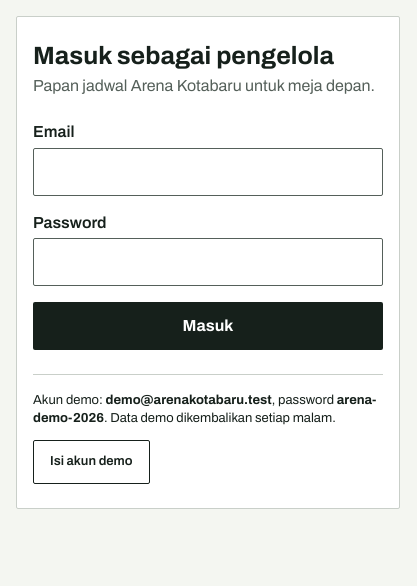
Test: LoginForm › says the email or password is wrong, not that a session ended
Type "owner@example.test" into the field labelled "Email" at [208, 172], box top-left (33, 148), bottom-right (383, 196)
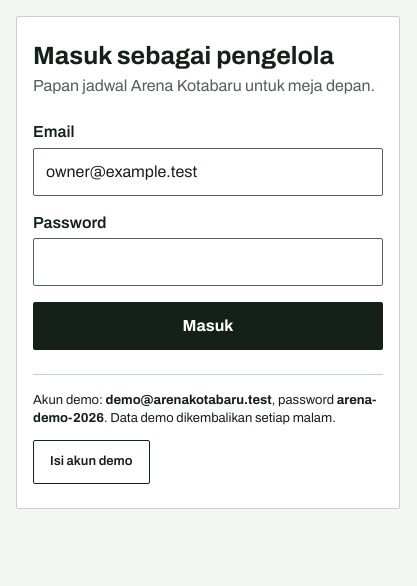
Type "wrong" into the password field labelled "Password" at [208, 262], box top-left (33, 238), bottom-right (383, 286)
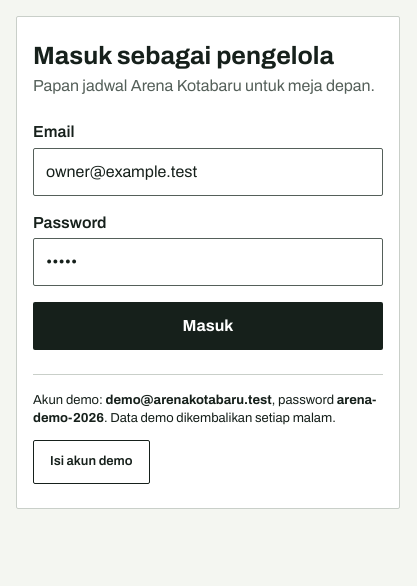
Click the button "Masuk" at [208, 326], box top-left (33, 302), bottom-right (383, 350)
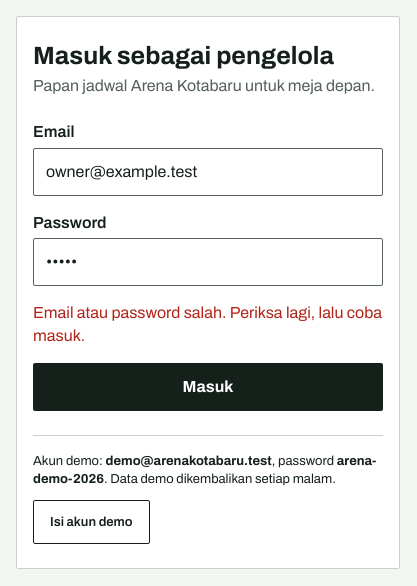
Now the message shows "Email atau password salah", box top-left (33, 304), bottom-right (382, 344)
